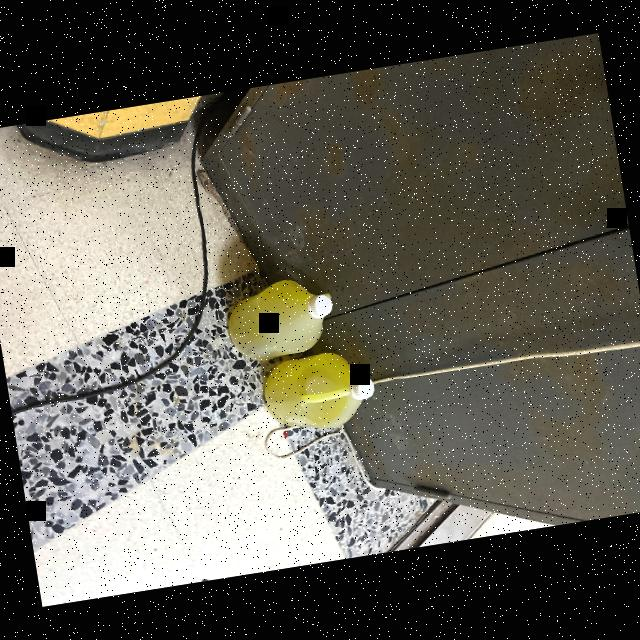chemical_plastic_gallon: (216, 260, 342, 371), (253, 342, 384, 446)
